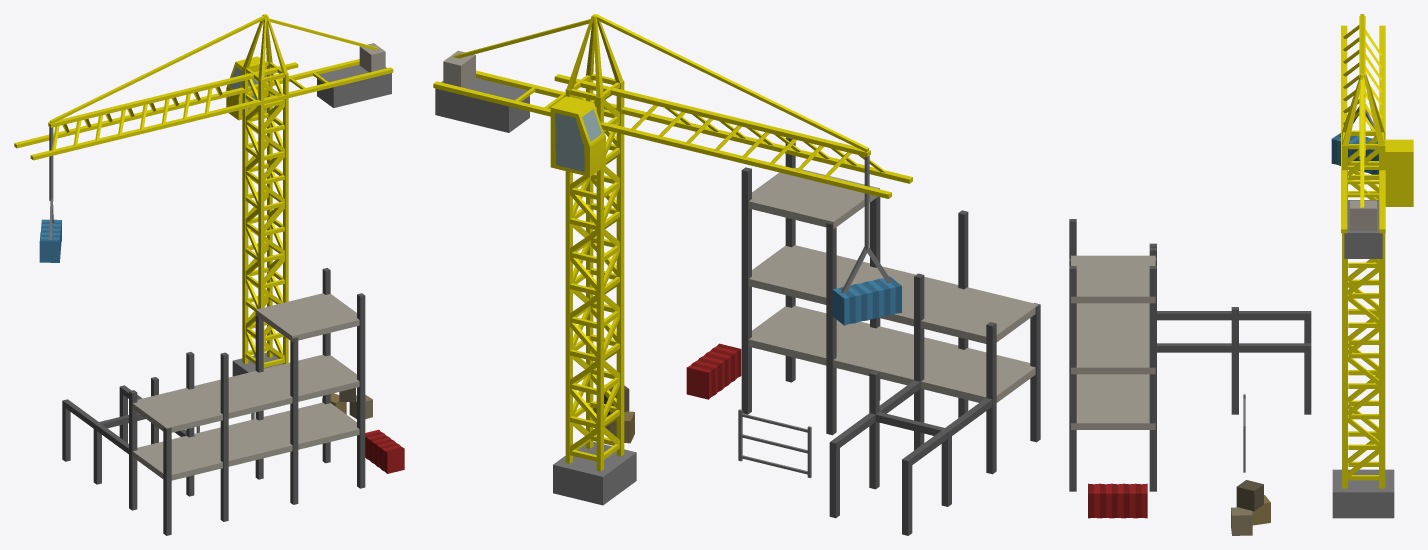
File: constuction site.fbx
3 renders of one model, left to right at view 1: azimuth 30°, elevation 25°; view 2: azimuth 150°, elevation 25°; view 3: azimuth 270°, elevation 25°, orthographic. The views are drawn at different scales.
Parts seen in each view (by area): view 1: con; view 2: con; view 3: con.
Boxes of the visible parts, <box> form: con: <box>14,14,404,535</box>; con: <box>433,14,1040,535</box>; con: <box>1069,14,1413,535</box>.
Size of the model in its own units: 315 by 313 by 225.
